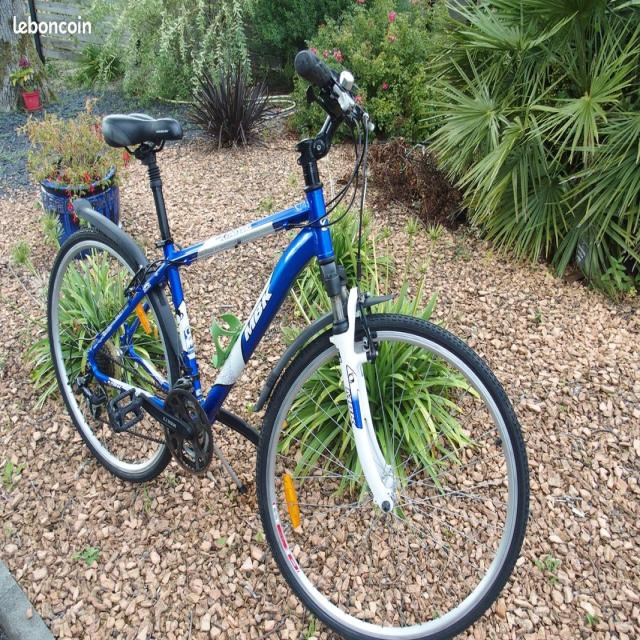Bike: (47, 49, 530, 638)
